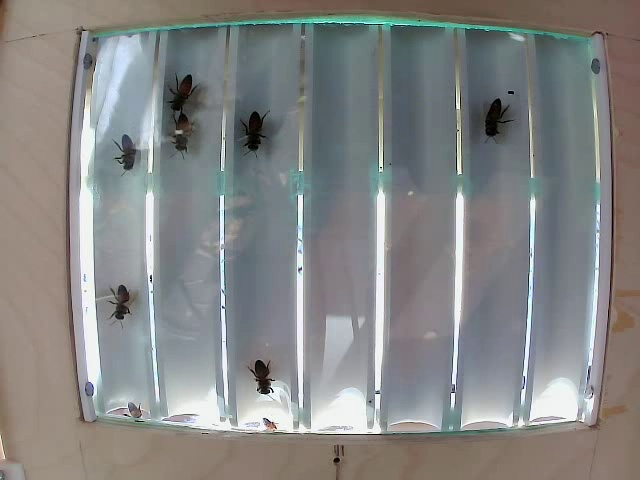bee: (240, 111, 275, 165), (466, 93, 507, 139), (173, 106, 213, 153), (243, 359, 285, 402), (99, 281, 136, 324), (101, 137, 152, 167), (165, 68, 205, 106)
